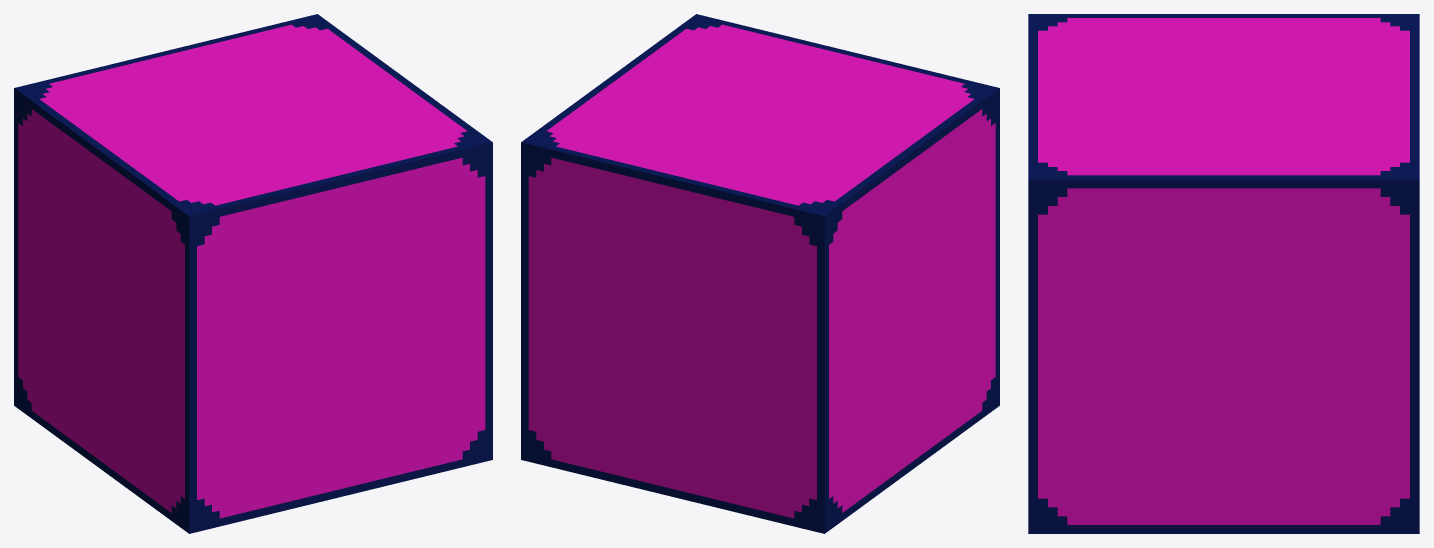
Rendered from Test_Wall.obj.
3 renders of one model, left to right at view 1: azimuth 30°, elevation 25°; view 2: azimuth 150°, elevation 25°; view 3: azimuth 270°, elevation 25°, orthographic. The views are drawn at different scales.
Bounding box in the file's own units: 4 × 4 × 4.
1 material, 1 textured.
